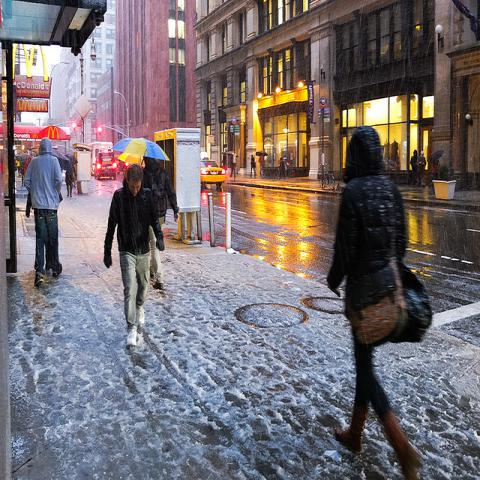car: (201, 159, 226, 184), (94, 152, 116, 180)
